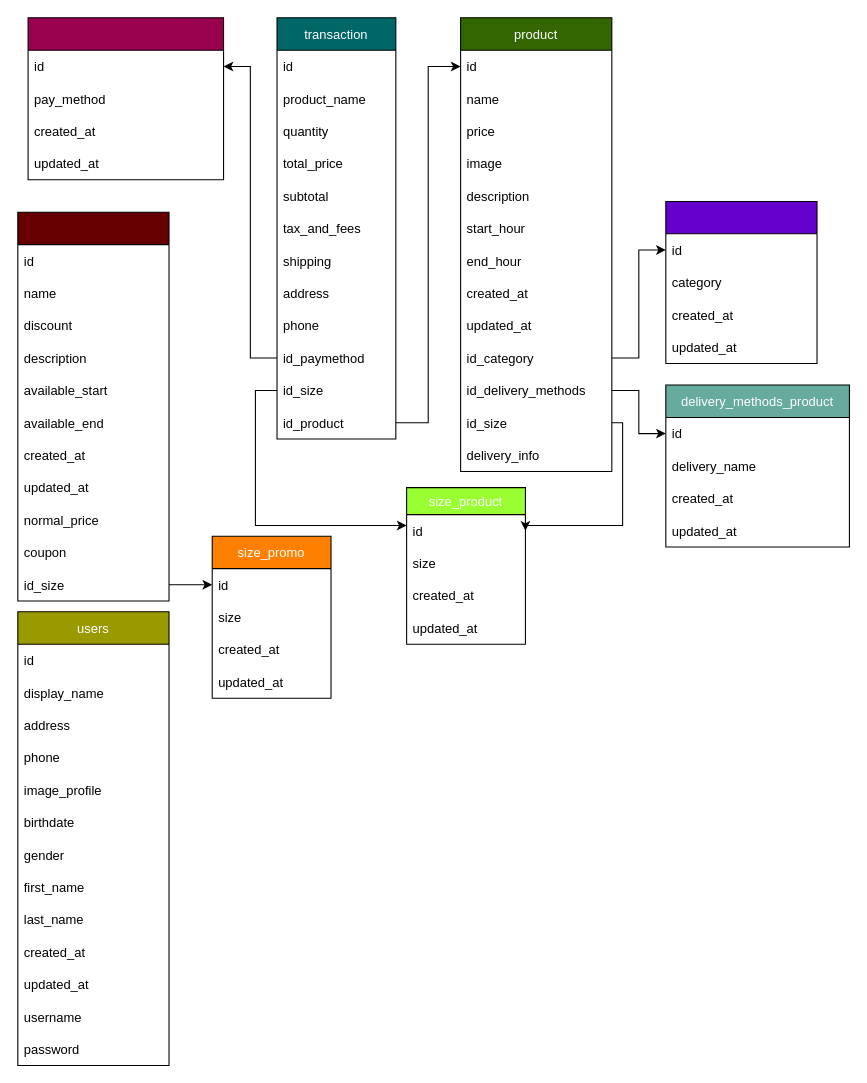
The diagram is 867 pixels wide and 1083 high, and some of its shapes have lost their labels. Here are the shapes that lost their labels. From the top down, the box of each, then its label:
(27, 17, 224, 180): payment_method_transaction
(665, 200, 817, 363): category_product
(17, 211, 169, 601): promos
